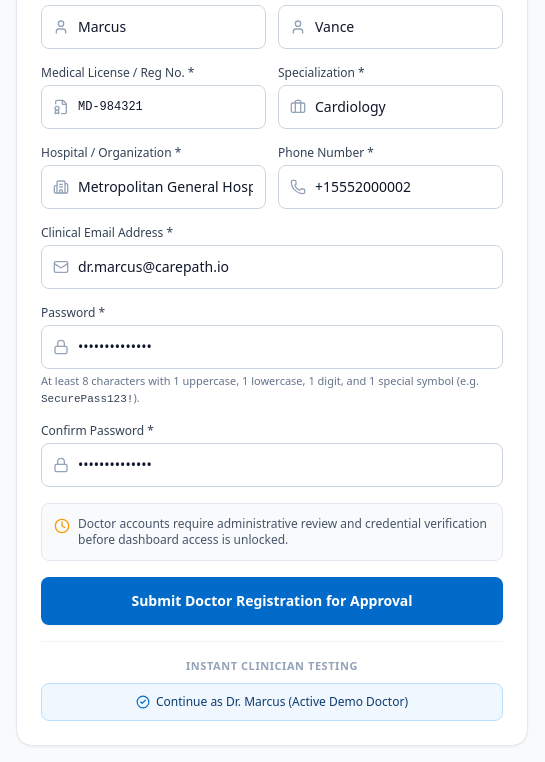
Test: DoctorAuthPage › renders registration form fields and submits doctor registration successfully
The image size is (545, 762).
(page scrolled)
Expected: the text "Medical License / Reg No. *" is shown, [41, 64, 194, 81]
Expected: the text "Specialization *" is shown, [278, 64, 365, 81]
Click the button "Submit Doctor Registration for Approval".
click(272, 601)  # box [41, 577, 503, 625]
(page scrolled)
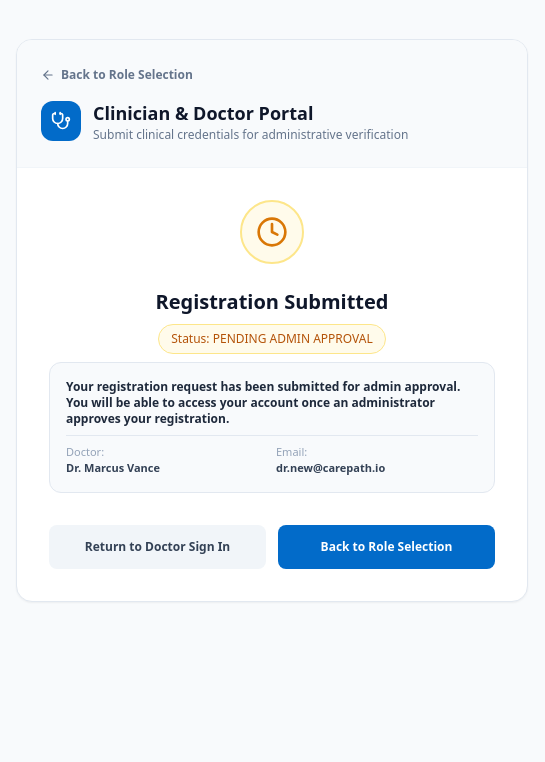
Result: the heading "Registration Submitted" is shown at [156, 288, 389, 315]
Result: the text "Status: PENDING ADMIN APPROVAL" is shown at [158, 324, 386, 354]
Result: the text "Your registration request has been submitted for admin approval. You will be able to access your account once an adminis" is shown at [66, 378, 460, 427]
